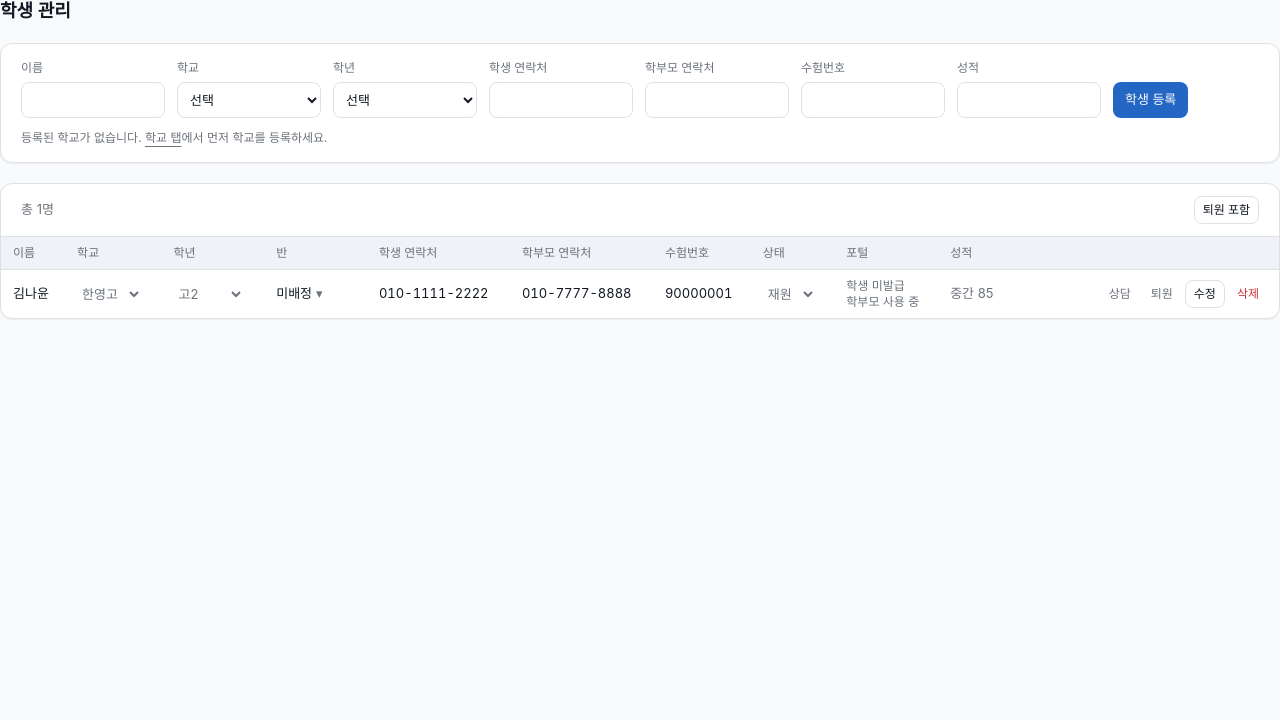
Test case: StudentsPage portal accounts › issues a student account from the edit dialog and shows the initial credentials
Click the button "수정" at (1205, 294), box [1185, 280, 1225, 308]
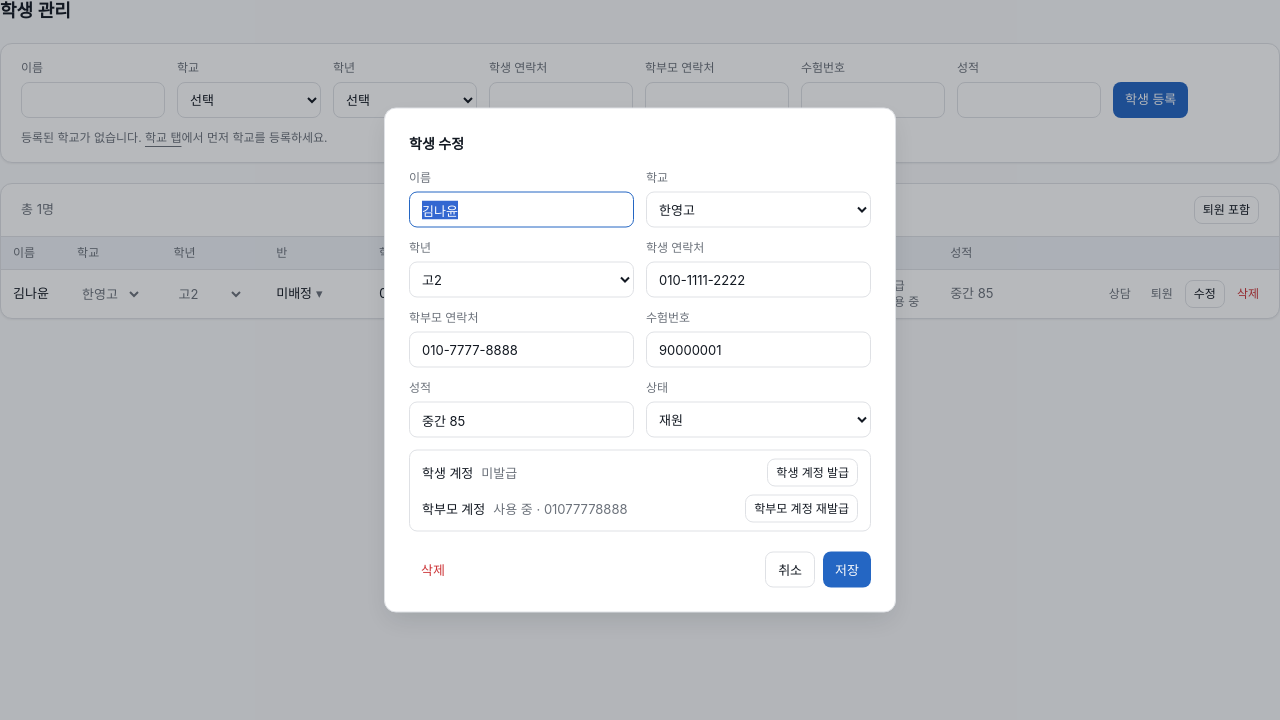
Click the button "학생 계정 발급" at (813, 472), box [767, 458, 858, 486]
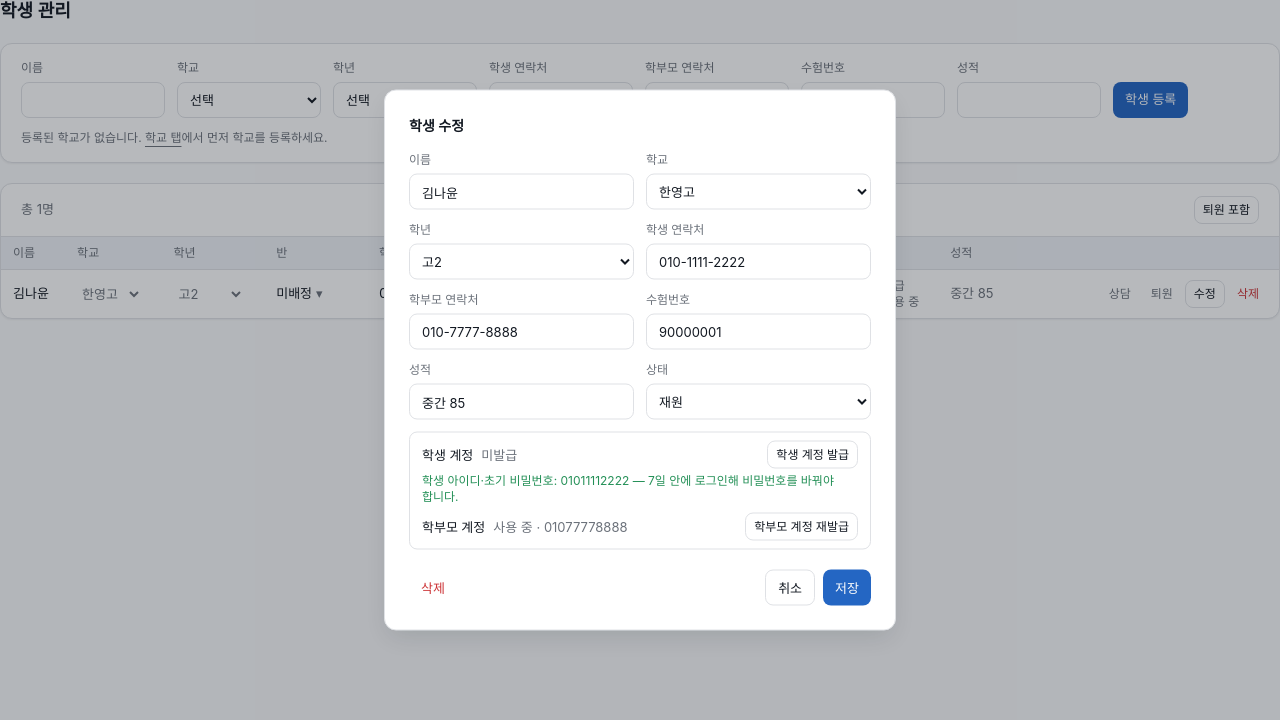
Now the button "학부모 계정 재발급" is shown, box [745, 512, 858, 540]
Now the text "학생 아이디·초기 비밀번호: 01011112222 — 7일 안에 로그인해 비밀번호를 바꿔야 합니다." is shown, box [422, 472, 858, 504]
